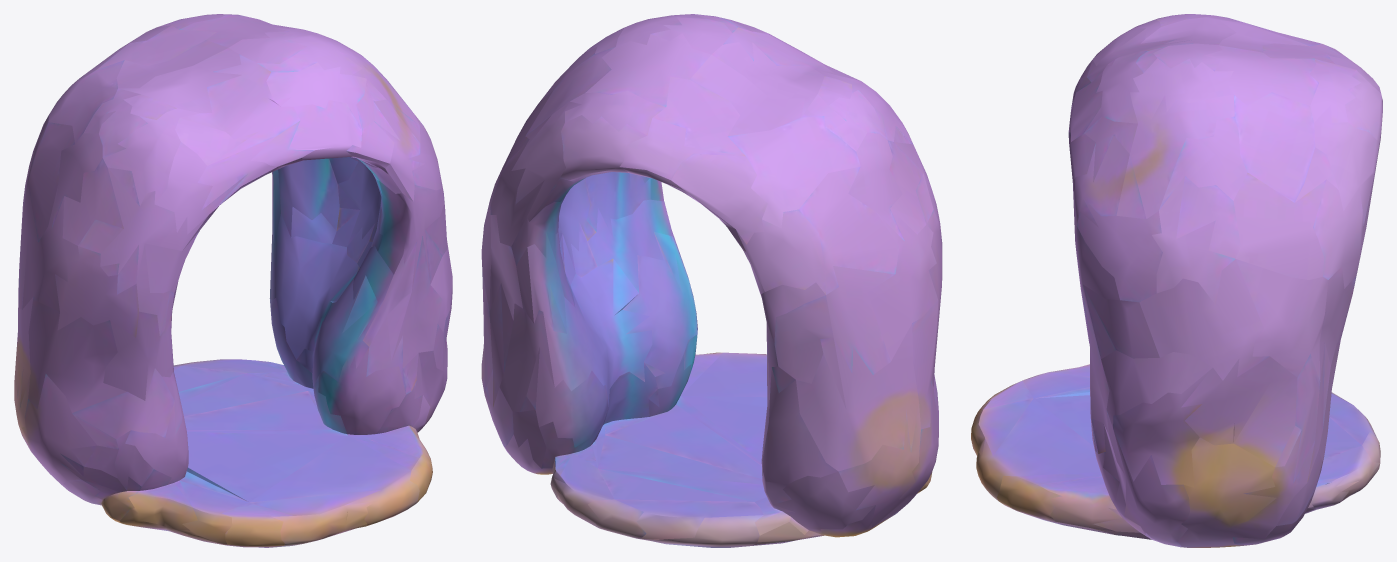
File: portal_gate.glb
The picture shows the model from 3 angles, left to right: view 1: azimuth 30°, elevation 25°; view 2: azimuth 150°, elevation 25°; view 3: azimuth 270°, elevation 25°; orthographic projection. The views are drawn at different scales.
Bounding box in the file's own units: 1.9 × 1.88 × 1.63.
1 material, 1 textured.
